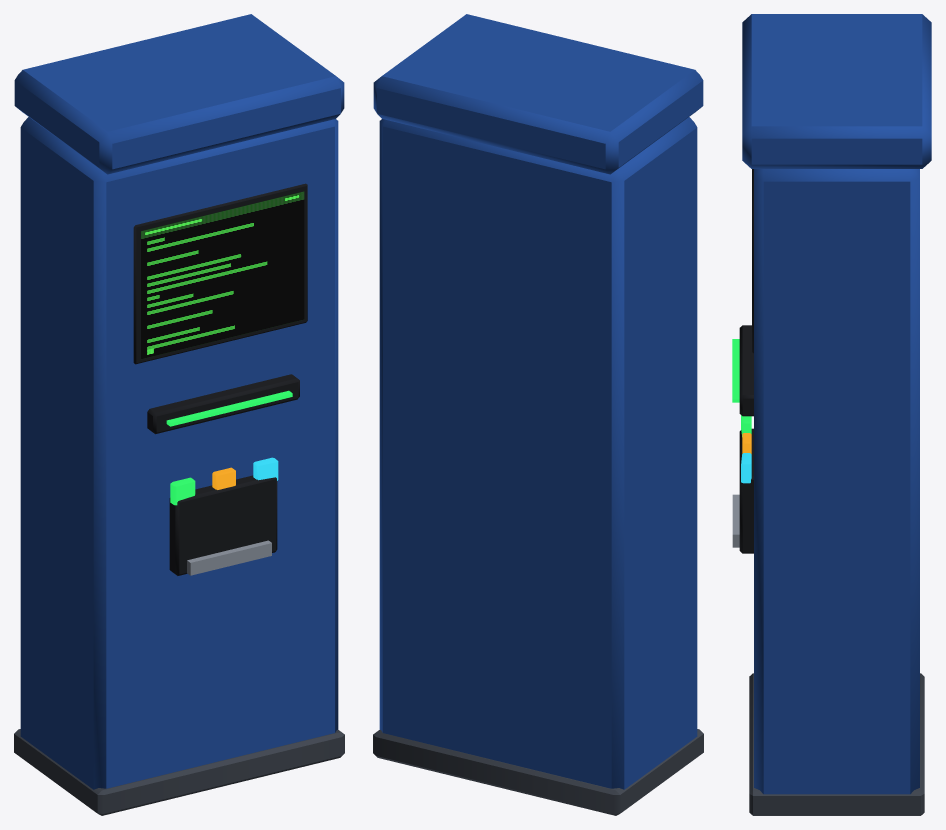
Rendered from terminal_ticket_kiosk.glb.
The picture shows the model from 3 angles, left to right: view 1: azimuth 30°, elevation 25°; view 2: azimuth 150°, elevation 25°; view 3: azimuth 270°, elevation 25°; orthographic projection.
Parts seen in each view (by area): view 1: terminal_ticket_kiosk; view 2: terminal_ticket_kiosk; view 3: terminal_ticket_kiosk.
Part boxes in pixels (x1=…): terminal_ticket_kiosk: x1=14, y1=14, x2=344, y2=815; terminal_ticket_kiosk: x1=373, y1=14, x2=703, y2=815; terminal_ticket_kiosk: x1=732, y1=14, x2=931, y2=815.
Bounding box in the file's own units: 0.606 × 1.6 × 0.421.
8 materials, 1 textured.
